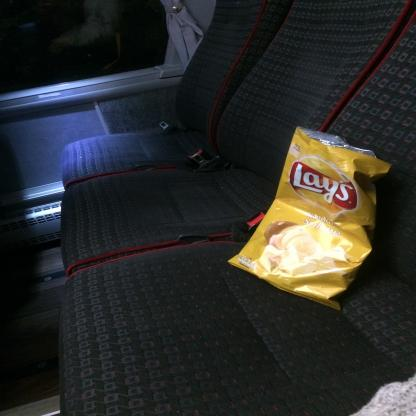trash: (214, 121, 402, 316)
